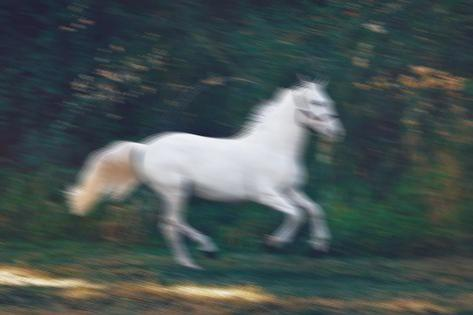horse: (64, 73, 342, 270)
